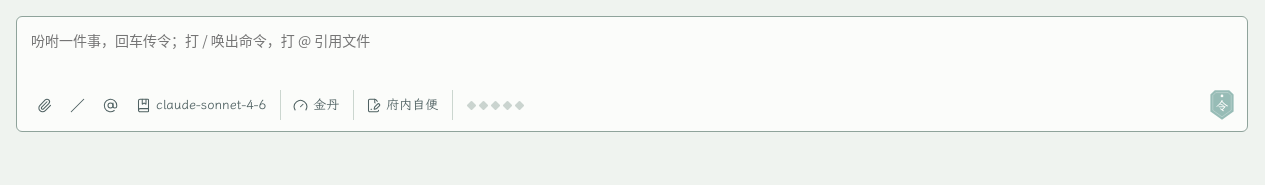
Composer component (P1-15 & P2-12) › executes inline !command on Enter and attaches its output as a quote chip
In the text box: (632, 54) [29,27,1235,81], type "!git status -s"
Then press Enter
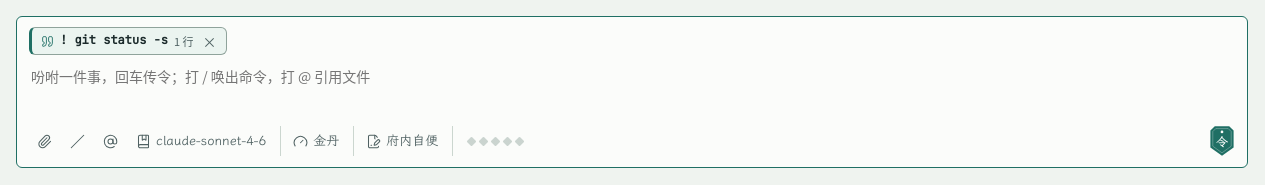
Now the text "! git status -s" is shown, box [60,31,168,51]
